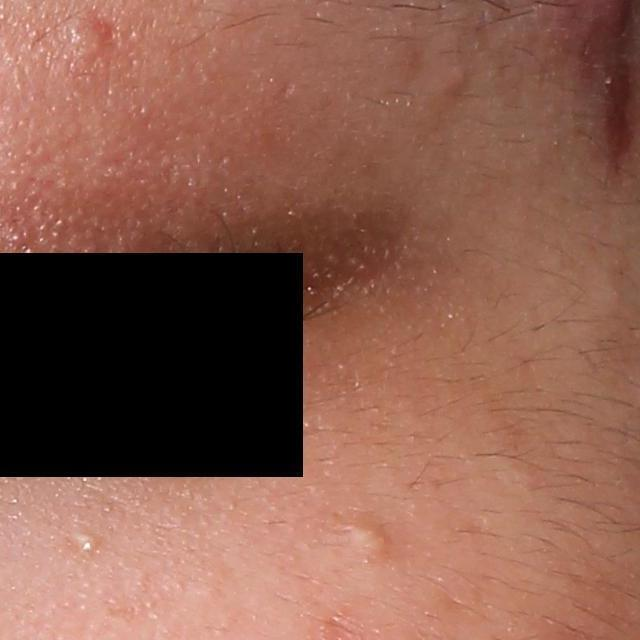comedo: (342, 513, 397, 565), (68, 525, 108, 558)
other: (63, 10, 117, 64)
